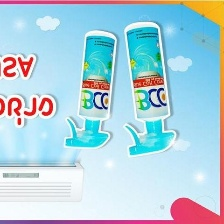cleaning_solution: (119, 20, 179, 159), (61, 28, 118, 150)
